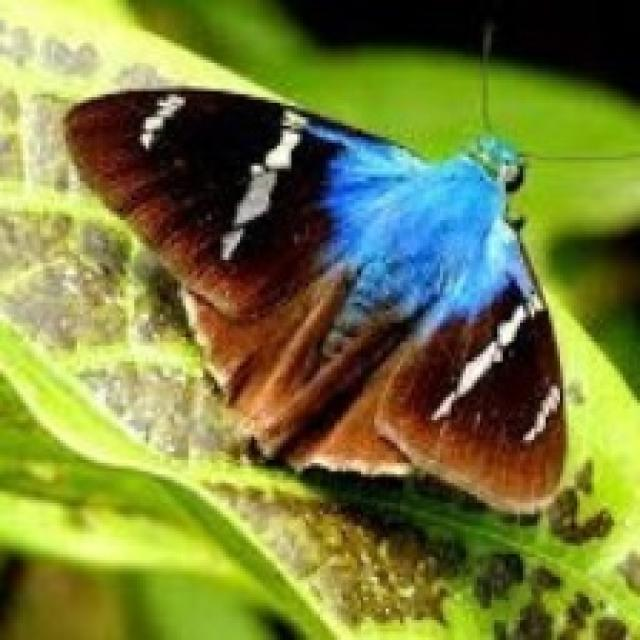butterfly: (60, 17, 637, 517)
